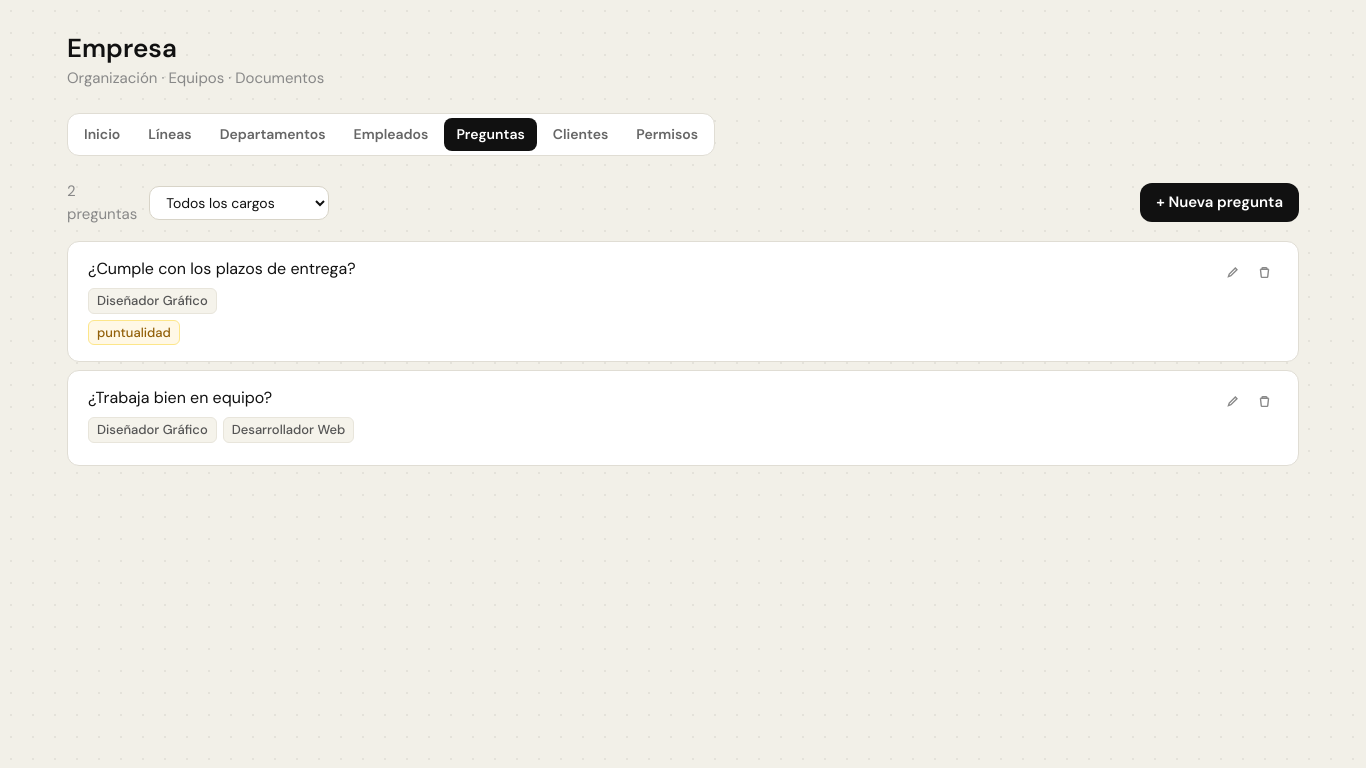
Test: QuestionsView › el botón Eliminar abre el diálogo de confirmación
expect the text "¿Cumple con los plazos de entrega?" is shown: met, box [88,258,356,279]
Click the button named "Eliminar pregunta" in the row of "¿Cumple con los plazos de entrega?".
click(1264, 272)  # box [1250,258,1278,286]
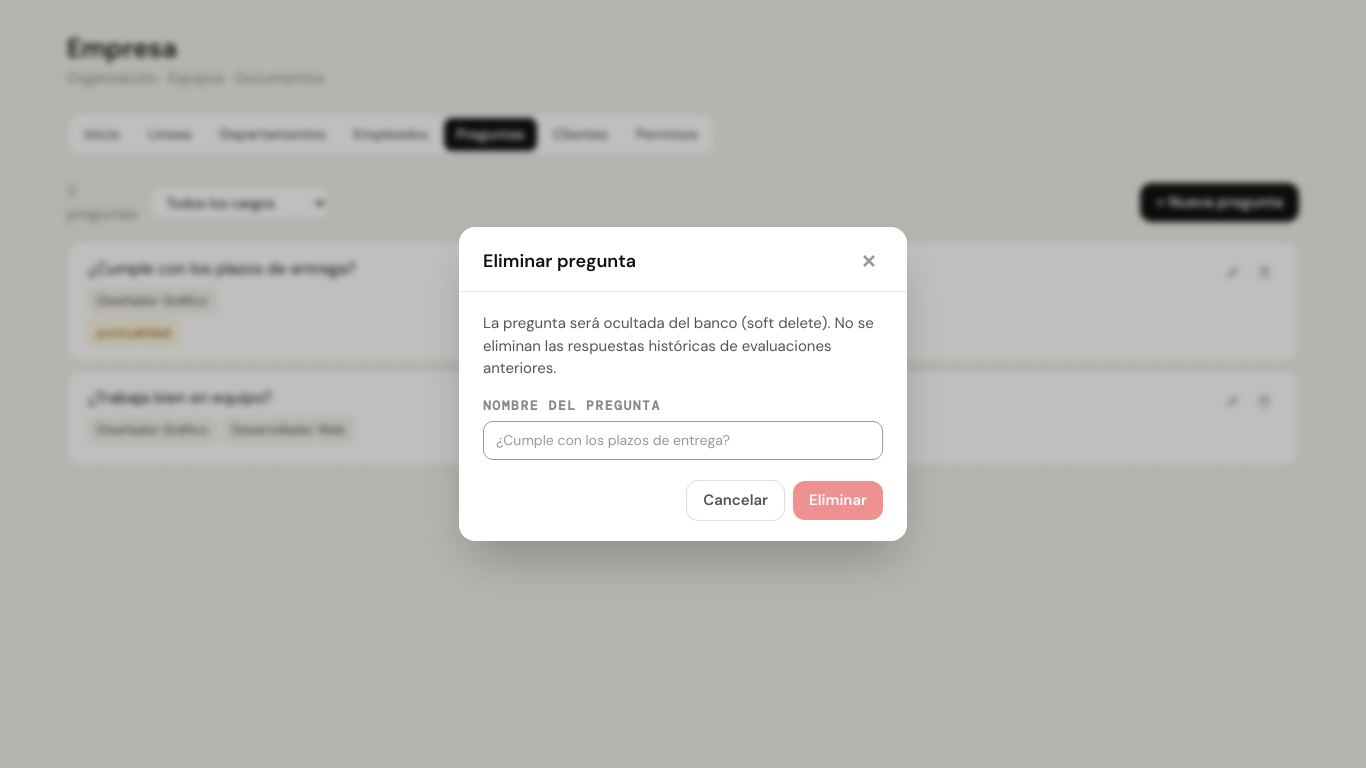
expect the heading "Eliminar pregunta" is shown: met, box [483,248,636,275]
expect the field with placeholder "¿Cumple con los plazos de entrega?" is shown: met, box [483,421,883,460]
